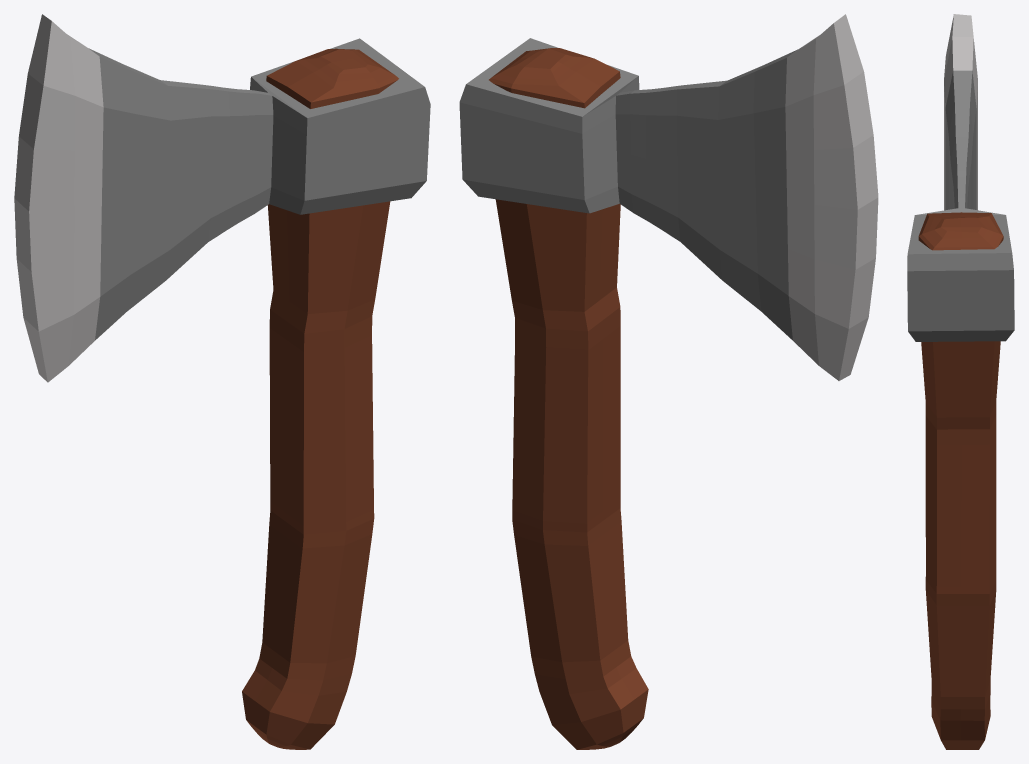
The model's file is Axe.fbx.
3 renders of one model, left to right at view 1: azimuth 30°, elevation 25°; view 2: azimuth 150°, elevation 25°; view 3: azimuth 270°, elevation 25°, orthographic. The views are drawn at different scales.
Visible parts, largest first — view 1: Cube; view 2: Cube; view 3: Cube.
Boxes of the visible parts, box(x1,y1,x2,y2) form: Cube: box(14, 14, 430, 749); Cube: box(459, 14, 878, 749); Cube: box(907, 14, 1014, 749).
Bounding box in the file's own units: 694 × 1383 × 212.
